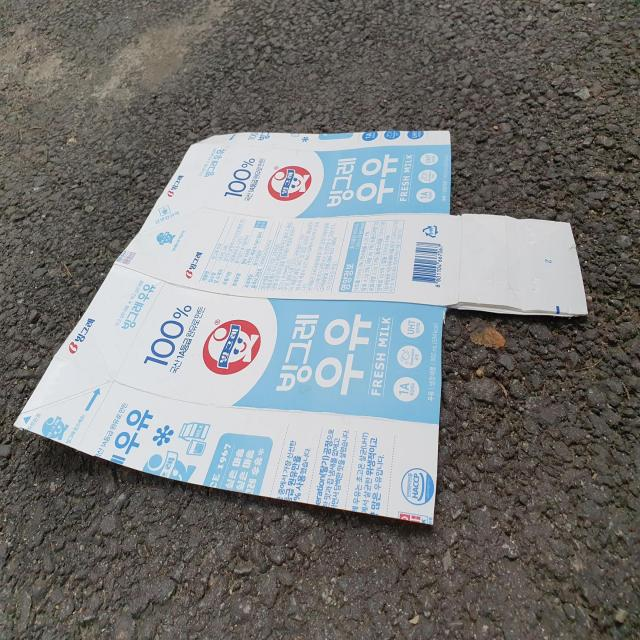paperpack: (15, 130, 588, 524)
